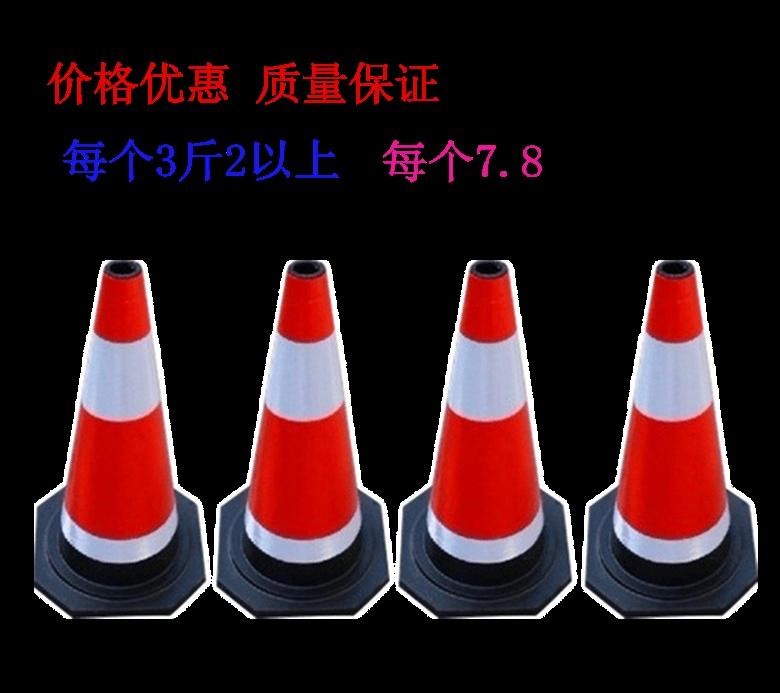cone_barrel: (40, 266, 201, 590), (594, 266, 752, 591), (225, 269, 384, 591), (411, 270, 565, 586)
